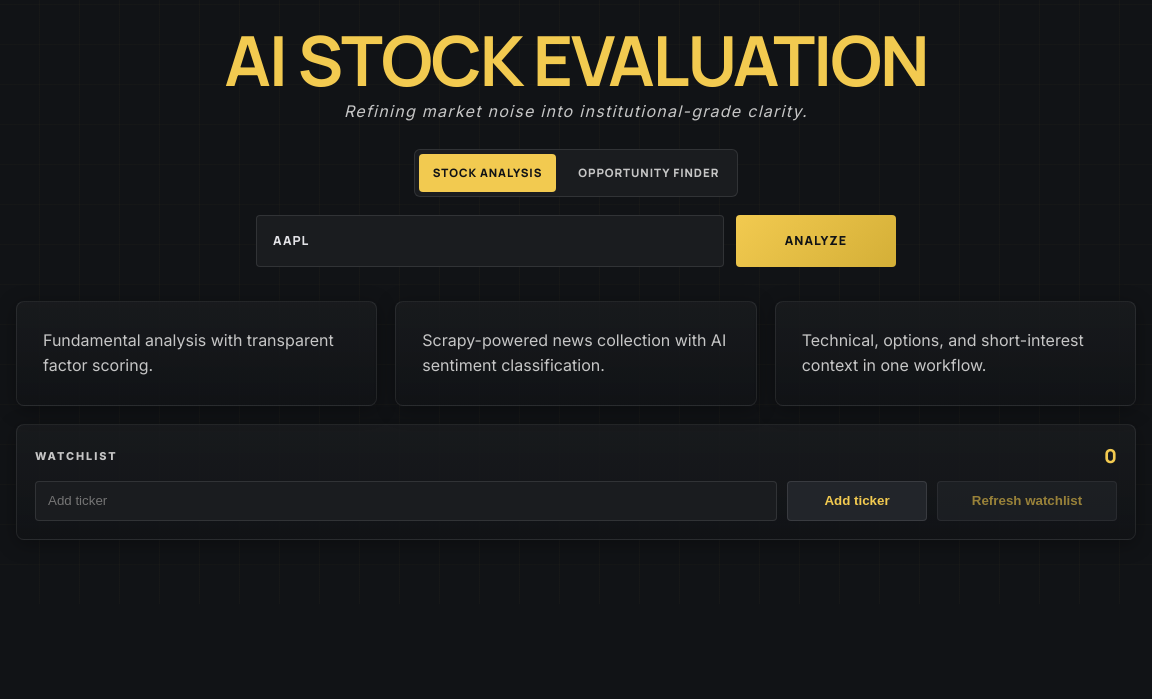
Test: App › renders opportunity finder results with metadata, reasons, and risks
Step 1. Click the button "Opportunity Finder" → (649, 173), box [564, 154, 733, 192]
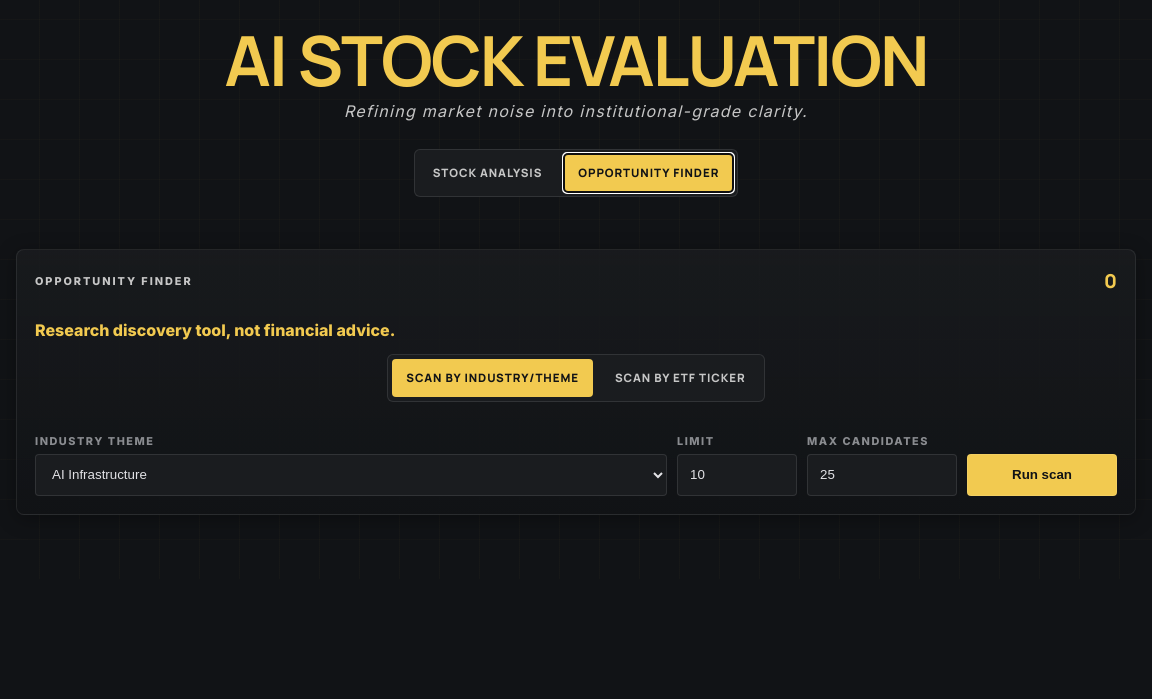
Expected: the text "Research discovery tool, not financial advice." is shown, [35, 320, 395, 340]
Expected: the dropdown labelled "Industry theme" is shown, [35, 454, 667, 496]
Step 2. Click the button "Run scan" → (1042, 475), box [967, 454, 1117, 496]
(page scrolled)
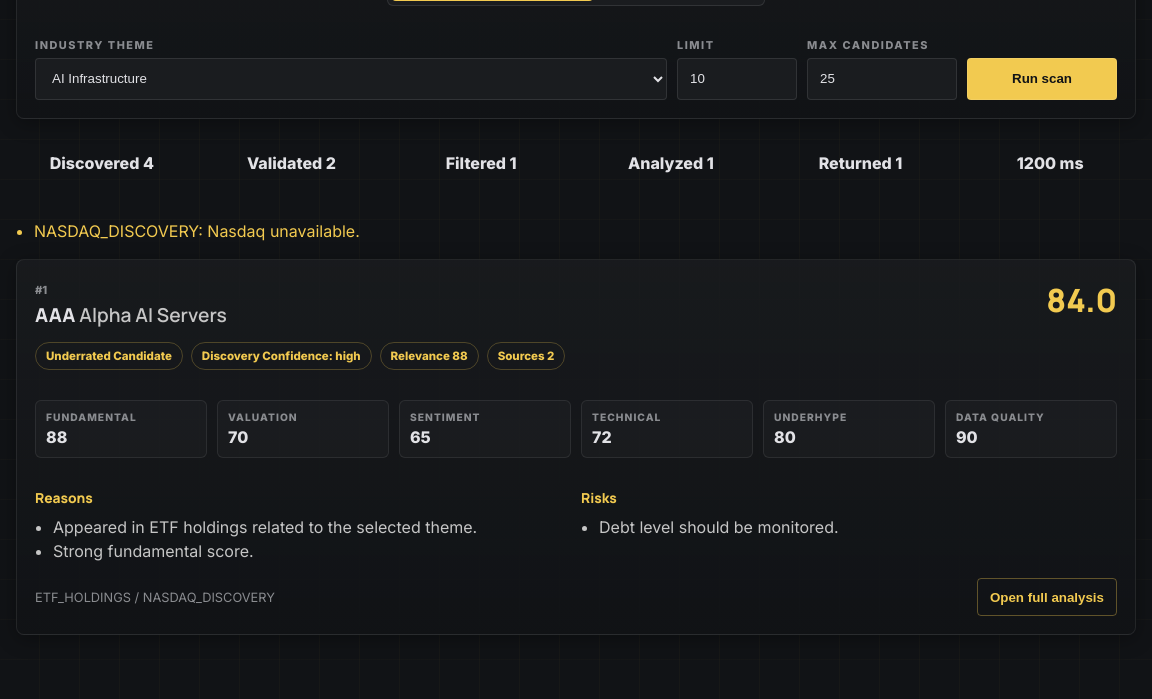
Expected: the text "Alpha AI Servers" is shown, [79, 302, 227, 328]
Expected: the text "Underrated Candidate" is shown, [35, 342, 183, 370]
Expected: the text "Discovery Confidence: high" is shown, [191, 342, 372, 370]
